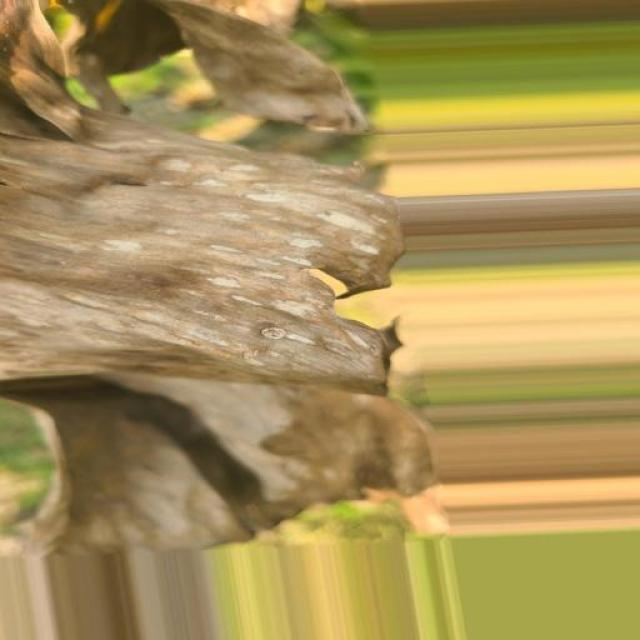Bract_mosaic_virus: (0, 0, 459, 640)
